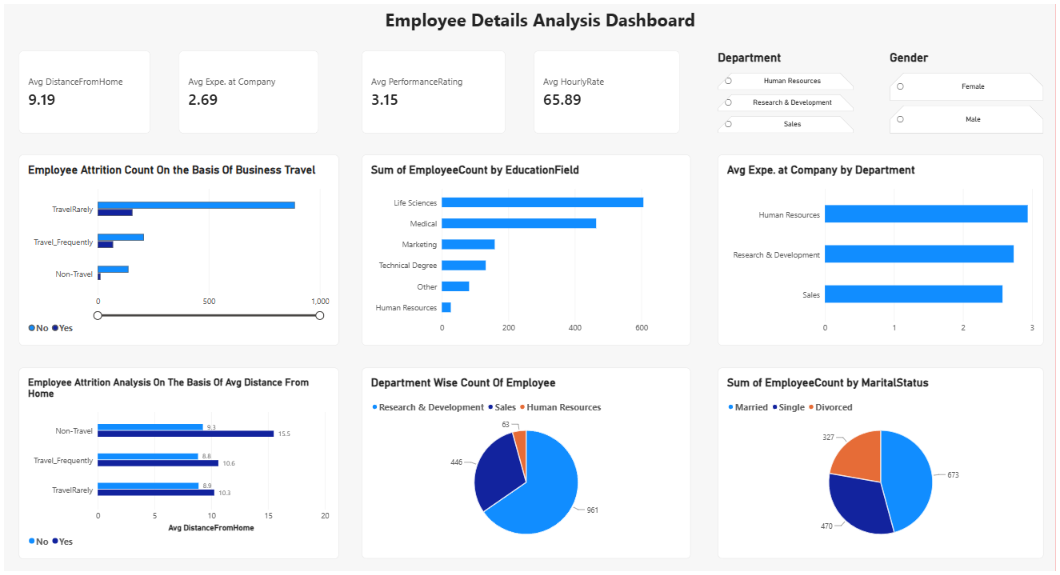

This screenshot's page, from the dashboard's own definition file:
{"tool":"powerbi","page":{"name":"Employee Details Analysis","canvas":[1920,1080],"ordinal":2},"visuals":[{"type":"textbox","box":[367.4,18.1,1232.4,77.8],"z":0},{"type":"clusteredBarChart","title":"Employee Attrition Count On the Basis Of Business Travel","fields":{"Category":["HR_Analytics (2).BusinessTravel"],"Series":["HR_Analytics (2).Attrition"],"Y":["CountNonNull(HR_Analytics (2).EmployeeCount)"]},"box":[39.8,284.1,579.1,345.6],"z":1},{"type":"clusteredBarChart","title":"Employee Attrition Analysis On The Basis Of Avg Distance From Home","fields":{"Category":["HR_Analytics (2).BusinessTravel"],"Series":["HR_Analytics (2).Attrition"],"Y":["HR_Analytics (2).Avg DistanceFromHome"]},"box":[39.8,669.6,579,346],"z":2},{"type":"pieChart","title":"Department Wise Count Of Employee","fields":{"Category":["HR_Analytics (2).Department"],"Y":["Sum(HR_Analytics (2).EmployeeCount)"]},"box":[660.5,669.6,595.4,345.6],"z":3},{"type":"barChart","fields":{"Category":["HR_Analytics (2).EducationField"],"Y":["Sum(HR_Analytics (2).EmployeeCount)"]},"box":[660.5,284.1,595.4,345.6],"z":4},{"type":"pieChart","fields":{"Category":["HR_Analytics (2).MaritalStatus"],"Y":["Sum(HR_Analytics (2).EmployeeCount)"]},"box":[1304.8,669.6,589.9,345.6],"z":5},{"type":"clusteredBarChart","fields":{"Category":["HR_Analytics (2).Department"],"Y":["HR_Analytics (2).Avg Expe. at Company"]},"box":[1304.8,284.1,589.9,345.6],"z":6},{"type":"cardVisual","fields":{"Data":["HR_Analytics (2).Avg DistanceFromHome"]},"box":[39.8,95.9,238.9,150.2],"z":7},{"type":"cardVisual","fields":{"Data":["HR_Analytics (2).Avg Expe. at Company"]},"box":[329.4,95.9,253.4,150.2],"z":8},{"type":"cardVisual","fields":{"Data":["HR_Analytics (2).Avg PerformanceRating"]},"box":[660.5,95.9,260.6,150.2],"z":9},{"type":"cardVisual","fields":{"Data":["HR_Analytics (2).Avg HourlyRate"]},"box":[971.8,95.9,264.2,150.2],"z":10},{"type":"advancedSlicerVisual","fields":{"Values":["HR_Analytics (2).Department"]},"box":[1304.8,95.9,246.1,150.2],"z":11},{"type":"advancedSlicerVisual","fields":{"Values":["HR_Analytics (2).Gender"]},"box":[1616,95.9,278.7,150.2],"z":12}]}

Visuals, with their boxes on the page's 1920x1080 design canvas (x1, y1, x2, y2). These are canvas units, not pixel positions in the 1060x575 screenshot, which may show the page scaled, cropped or inside an application window:
textbox: 367,18,1600,96
"Employee Attrition Count On the Basis Of Business Travel" clusteredBarChart: 40,284,619,630
"Employee Attrition Analysis On The Basis Of Avg Distance From Home" clusteredBarChart: 40,670,619,1016
"Department Wise Count Of Employee" pieChart: 660,670,1256,1015
barChart - HR_Analytics (2).EducationField x Sum(HR_Analytics (2).EmployeeCount): 660,284,1256,630
pieChart - HR_Analytics (2).MaritalStatus x Sum(HR_Analytics (2).EmployeeCount): 1305,670,1895,1015
clusteredBarChart - HR_Analytics (2).Department x HR_Analytics (2).Avg Expe. at Company: 1305,284,1895,630
cardVisual - HR_Analytics (2).Avg DistanceFromHome: 40,96,279,246
cardVisual - HR_Analytics (2).Avg Expe. at Company: 329,96,583,246
cardVisual - HR_Analytics (2).Avg PerformanceRating: 660,96,921,246
cardVisual - HR_Analytics (2).Avg HourlyRate: 972,96,1236,246
advancedSlicerVisual - HR_Analytics (2).Department: 1305,96,1551,246
advancedSlicerVisual - HR_Analytics (2).Gender: 1616,96,1895,246
